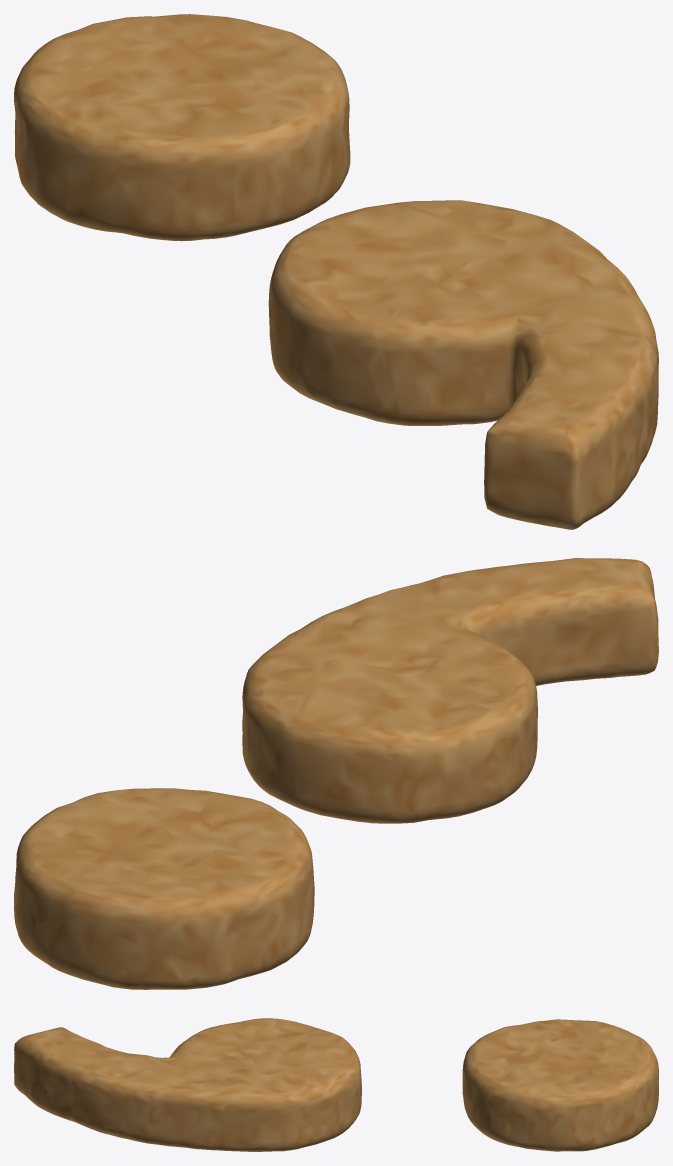
File: semikolon.glb
3 views of the same model, one above another, from view 1: azimuth 30°, elevation 25°; view 2: azimuth 150°, elevation 25°; view 3: azimuth 270°, elevation 25° (orthographic). The views are drawn at different scales.
Parts seen in each view (by area): view 1: cookie; view 2: cookie; view 3: cookie.
Part boxes in pixels (box(x1,y1,x2,y2)): cookie: box(14, 14, 658, 529); cookie: box(14, 558, 658, 989); cookie: box(14, 1018, 658, 1151).
Bounding box in the file's own units: 0.0279 × 0.00971 × 0.0911.
